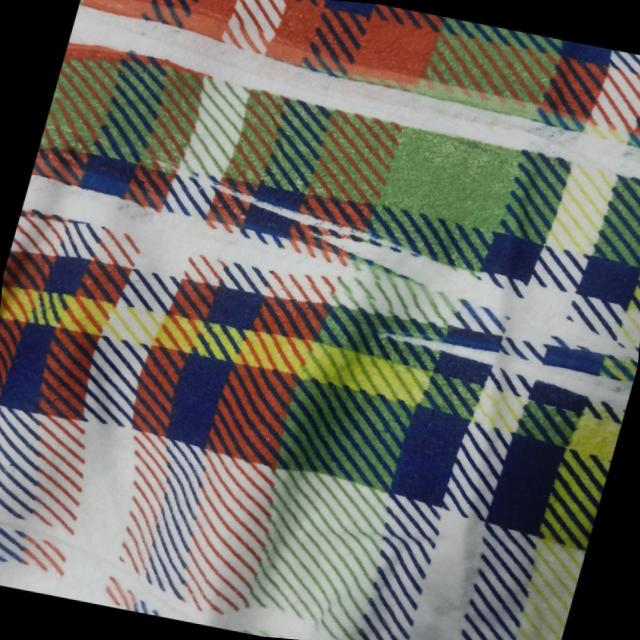selvet: (52, 0, 640, 195), (309, 217, 640, 351), (0, 549, 404, 640), (15, 174, 306, 278), (374, 318, 639, 412), (0, 504, 179, 590), (160, 160, 348, 238)
